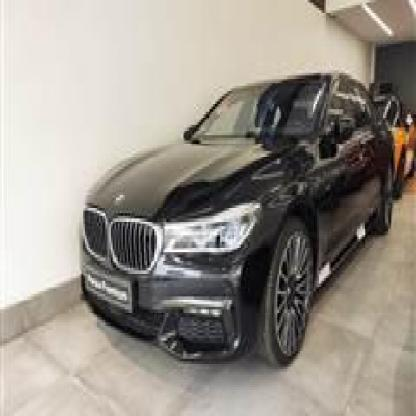Car: (71, 68, 395, 380), (378, 96, 416, 182)
